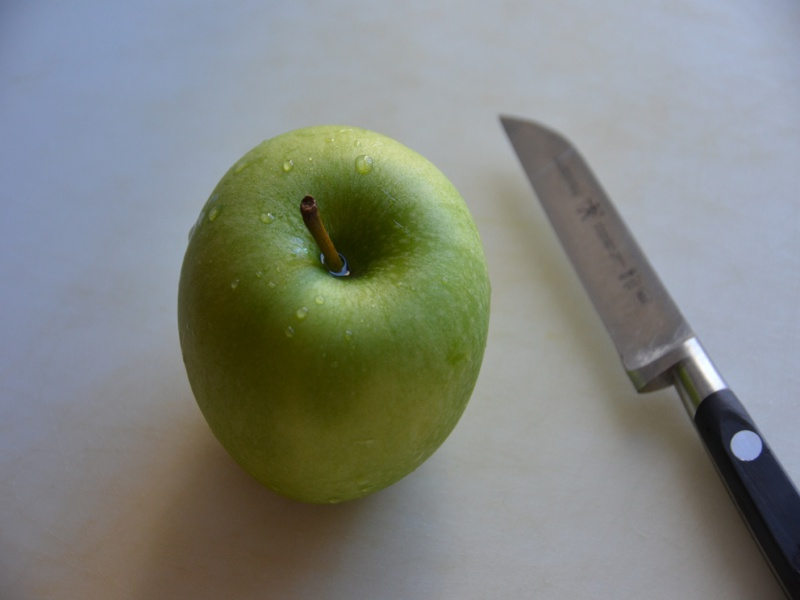knife: (496, 104, 800, 598)
